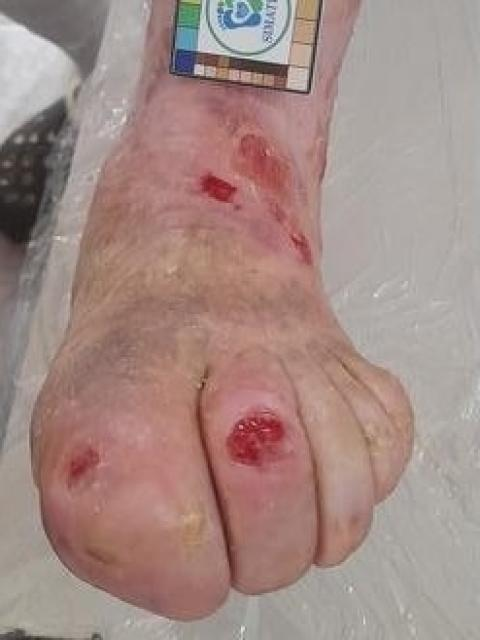wound: (236, 130, 315, 263), (225, 416, 291, 468), (61, 442, 106, 499), (200, 172, 243, 203)
